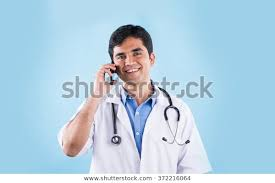Indian_Male: (114, 26, 154, 79)
